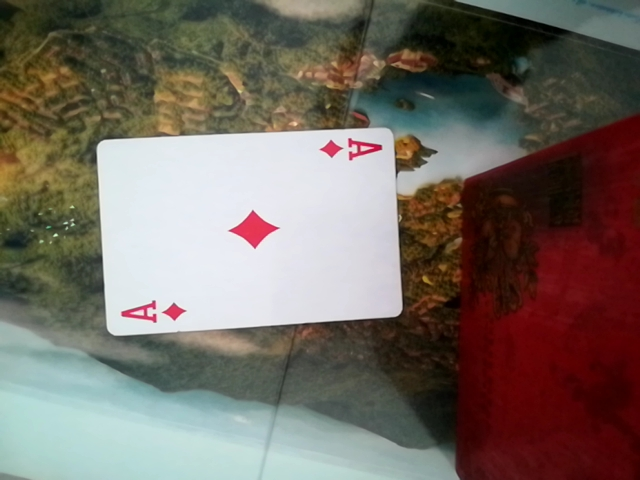fk a: (94, 127, 406, 338)
